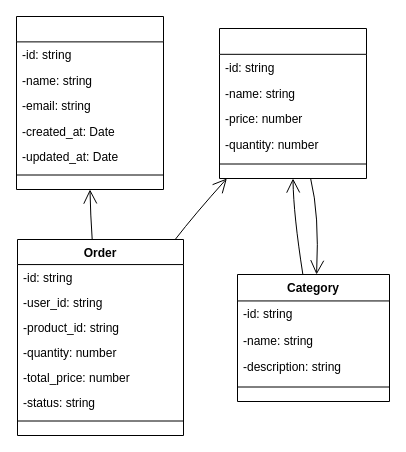
Image size: 406x452. Some labels were removed from this diagram. Each missing label, with the box of its shape:
Product: (218, 28, 366, 178)
User: (16, 16, 164, 190)
